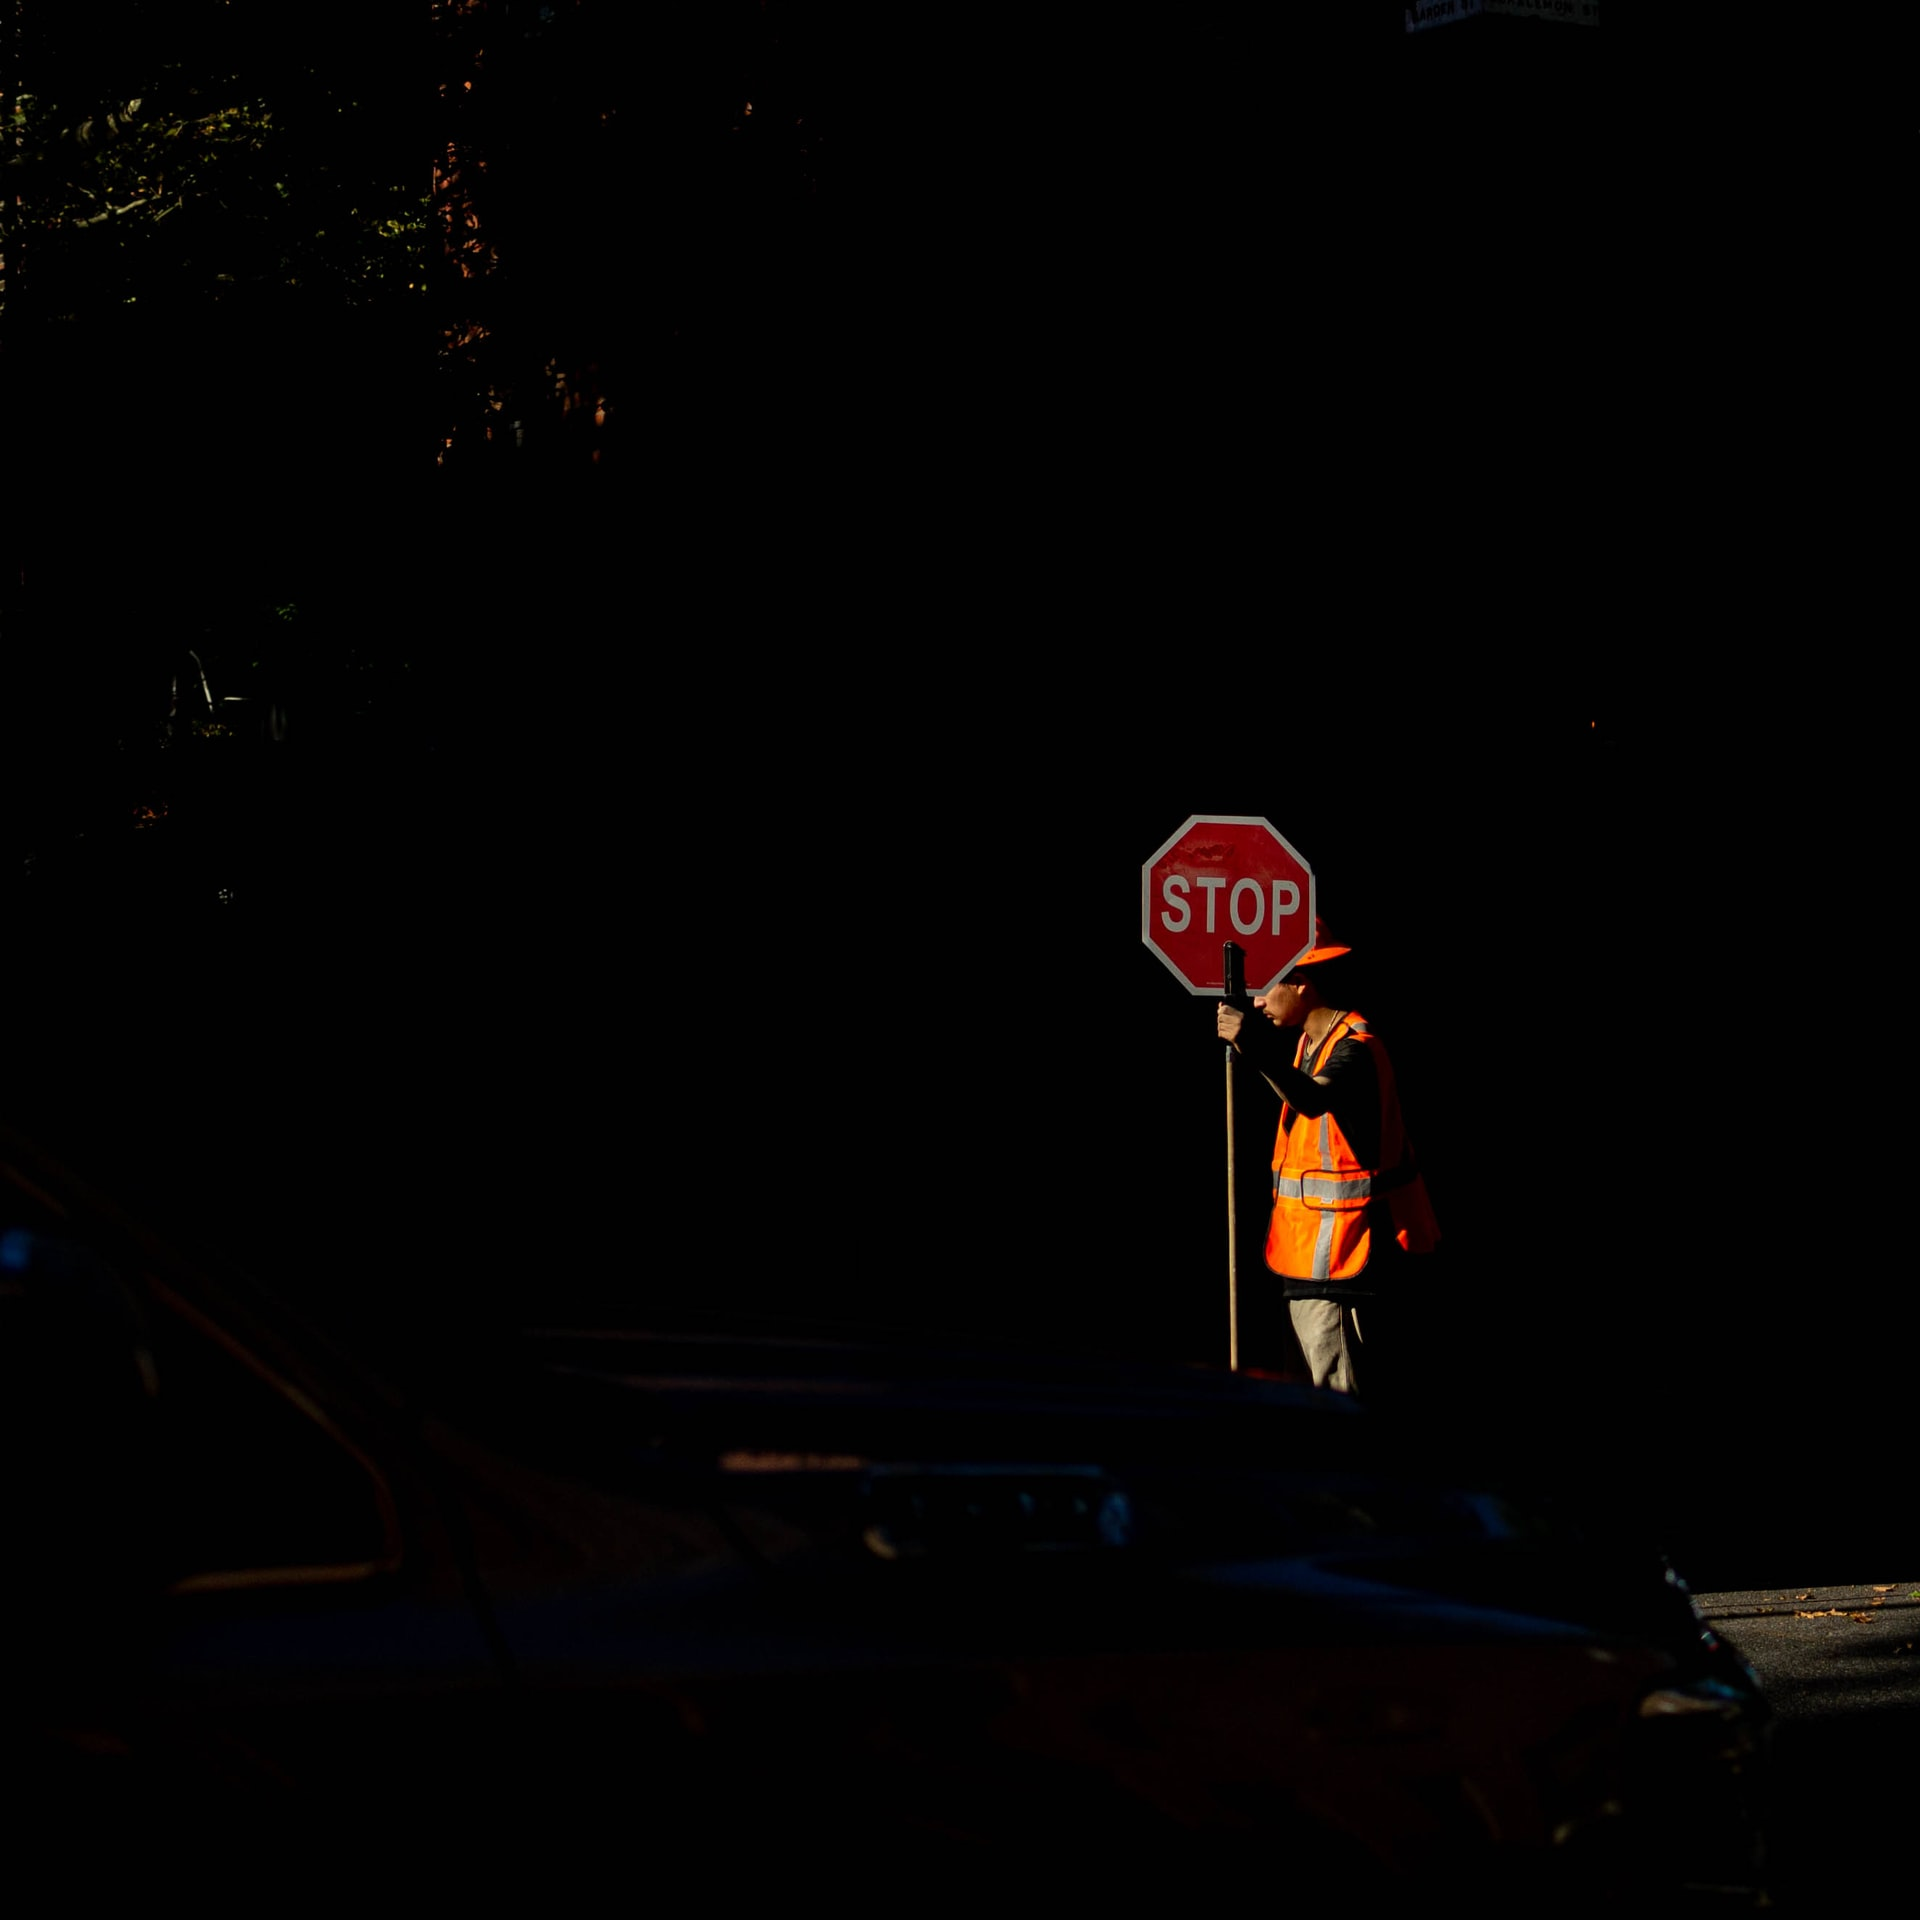STOP: (1129, 802, 1326, 1000)
